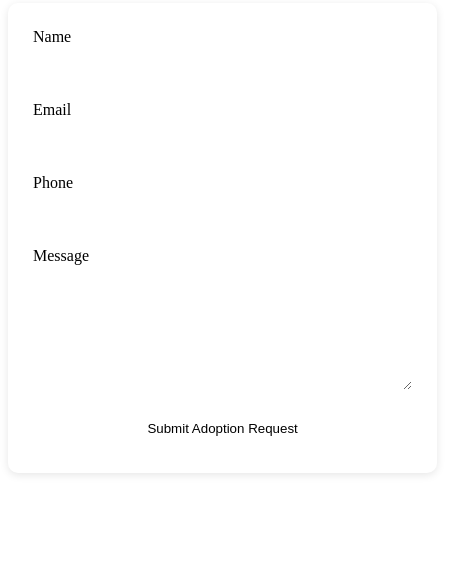
Test: does not allow submitting the form with empty fieldsи полями
Click the button "Submit Adoption Request" at (223, 428), box [33,409,412,448]
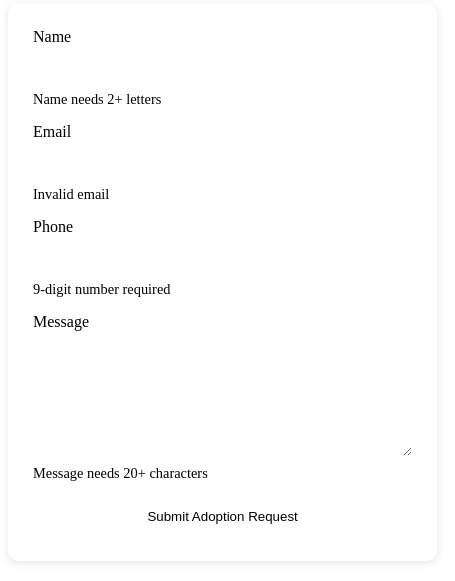
Check: the text "Name needs 2+ letters" is shown, box [33,91,161,107]
Check: the text "Invalid email" is shown, box [33,186,109,202]
Check: the text "9-digit number required" is shown, box [33,281,170,297]
